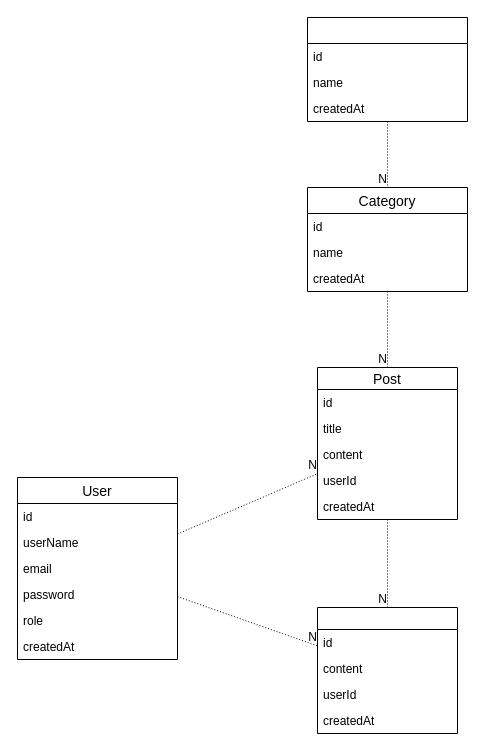
The diagram is 485 pixels wide and 754 high, and some of its shapes have lost their labels. Each missing label, with the box of its shape:
Comment: (316, 606, 458, 734)
Topic: (306, 16, 468, 122)
